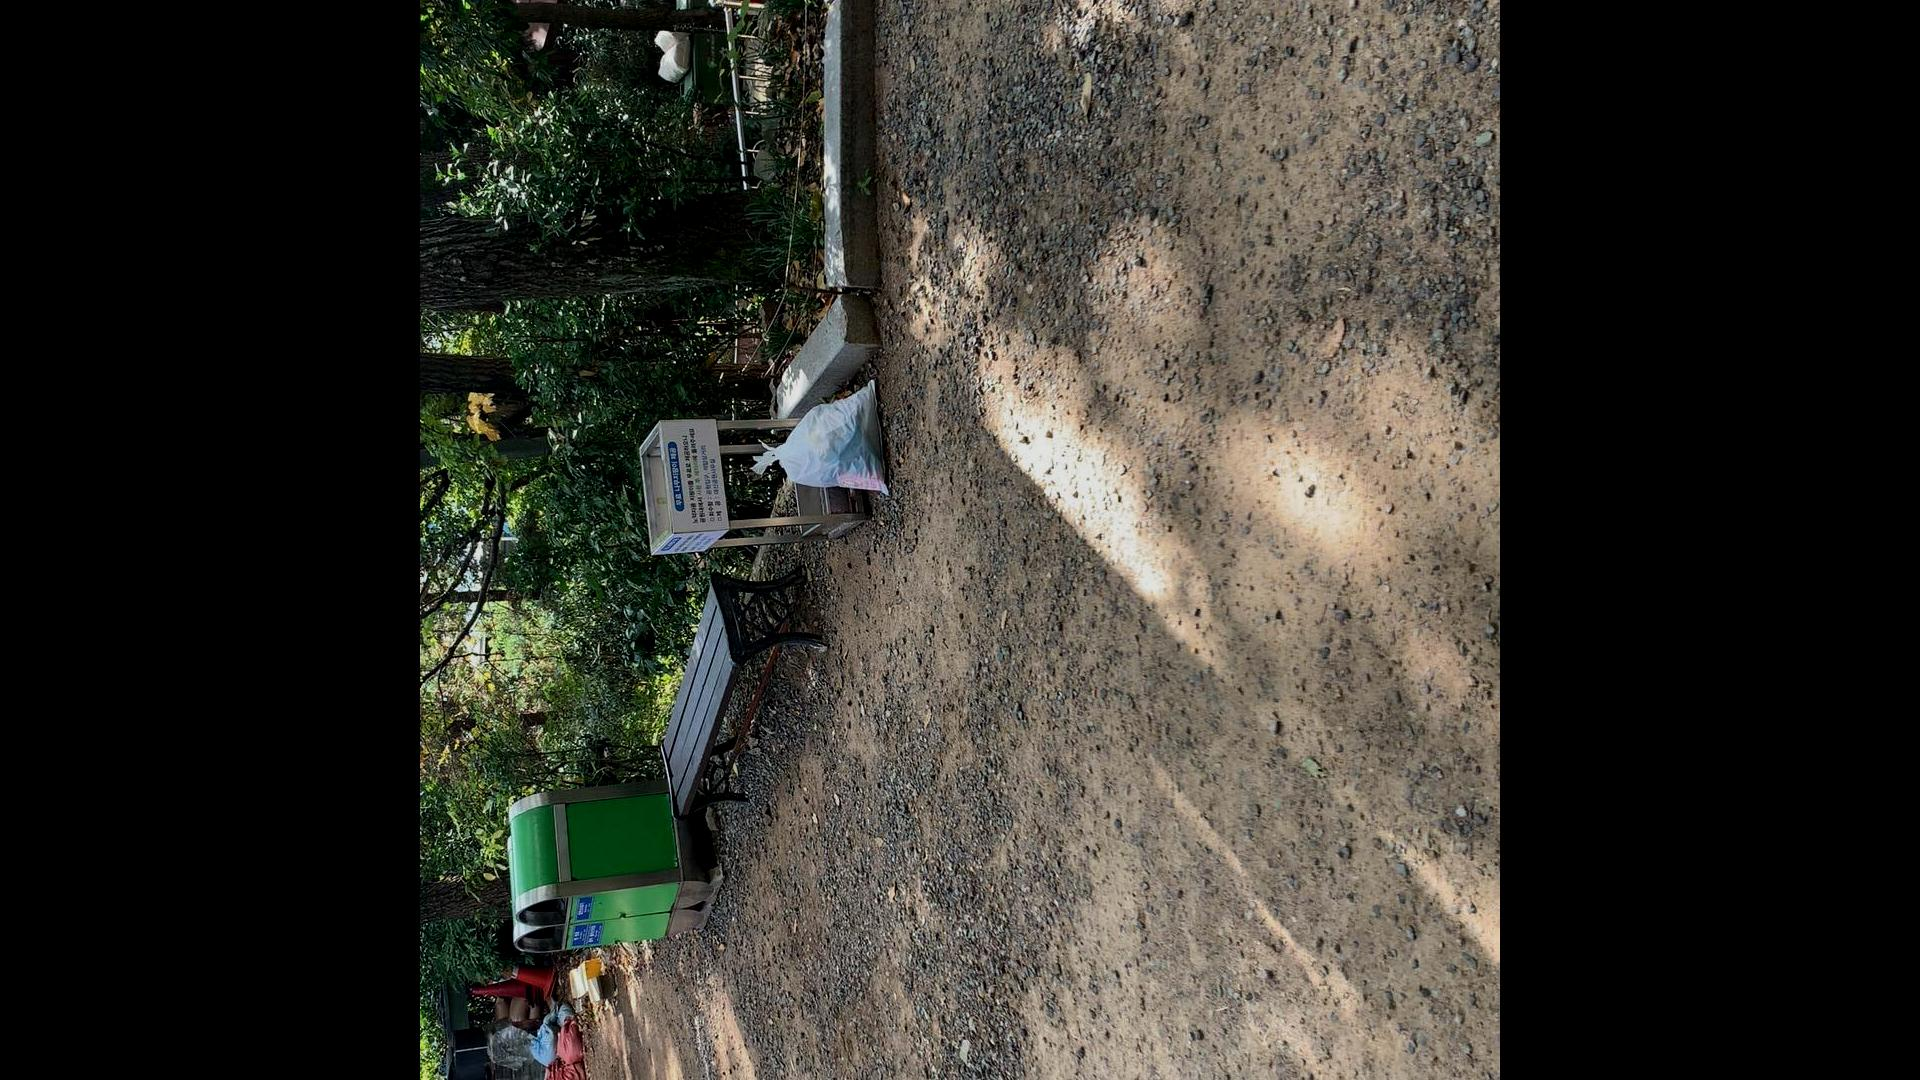white_bag: (742, 375, 899, 502)
